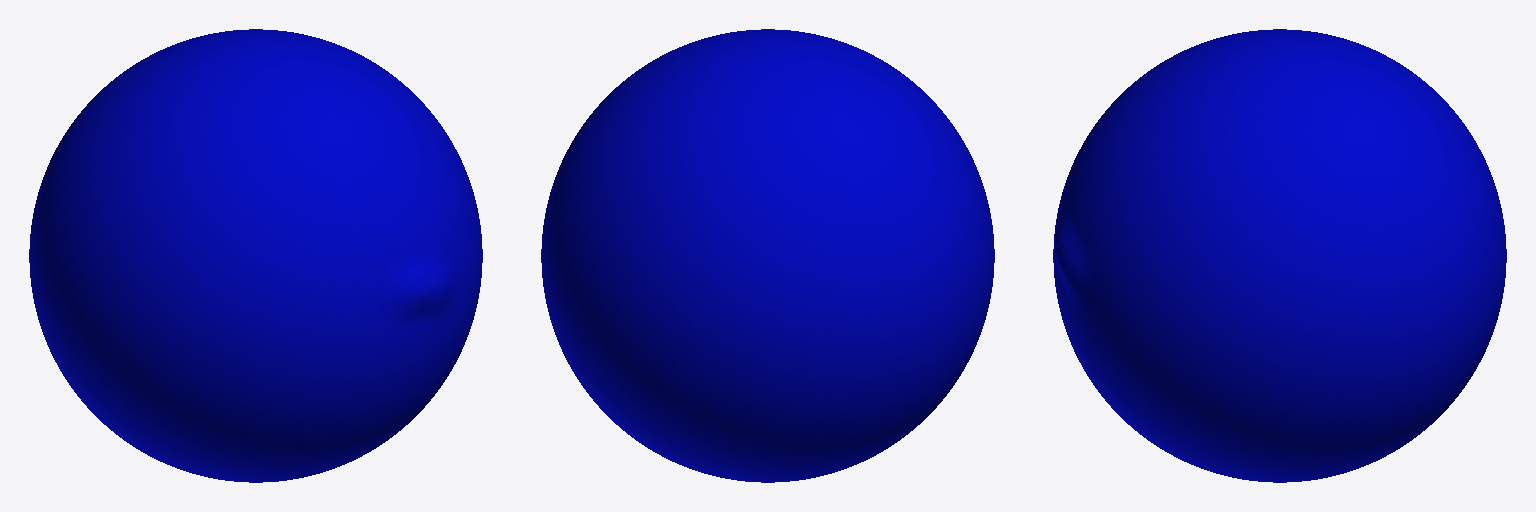
File: kugel.obj
3 views of the same model, side by side, from view 1: azimuth 30°, elevation 25°; view 2: azimuth 150°, elevation 25°; view 3: azimuth 270°, elevation 25° (orthographic).
Parts seen in each view (by area): view 1: Quad_Sphere; view 2: Quad_Sphere; view 3: Quad_Sphere.
Part boxes in pixels (x1,y1,x2,y2): Quad_Sphere: (29,29,482,482); Quad_Sphere: (541,29,994,482); Quad_Sphere: (1053,29,1506,482).
Bounding box in the file's own units: 2.57 × 2.57 × 2.57.